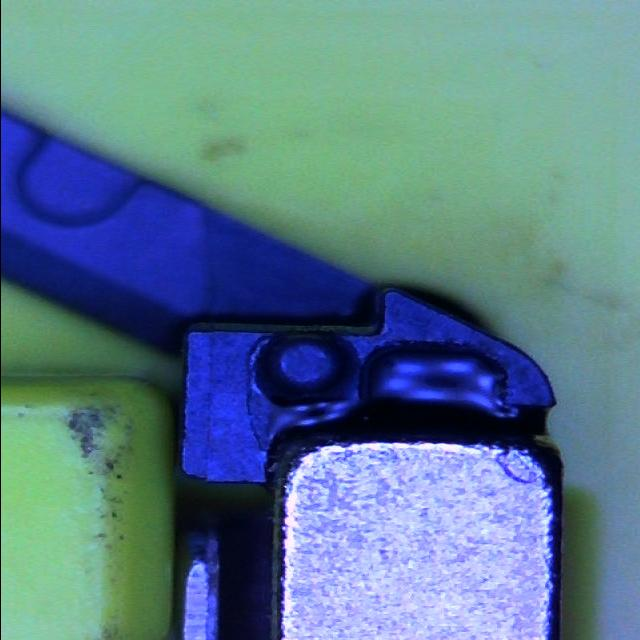over: (359, 342, 512, 420)
